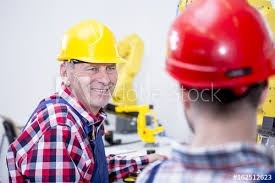helmet: (161, 1, 273, 90), (55, 18, 128, 67)
person with partial safety: (6, 19, 127, 183)
